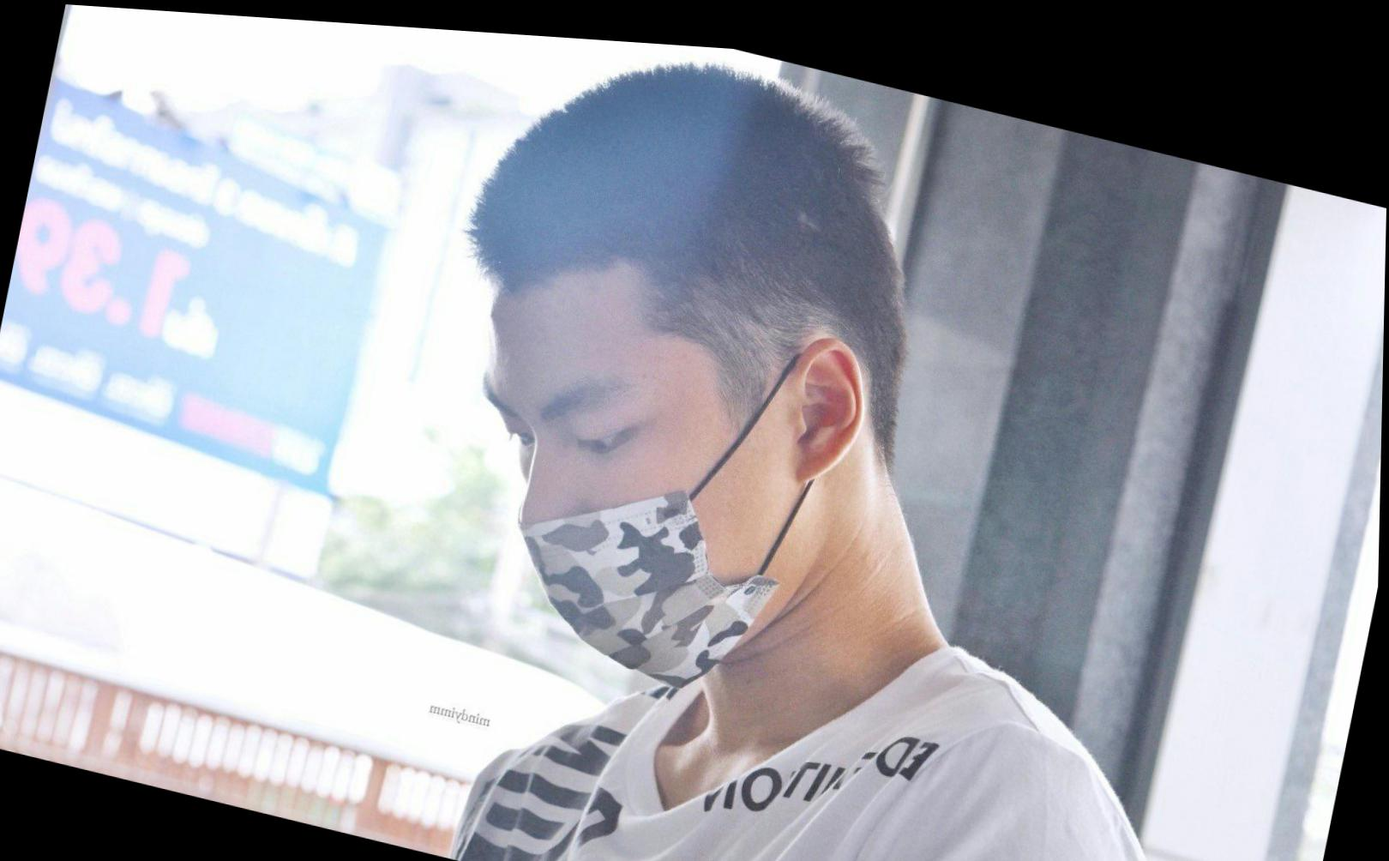WRONG: (437, 266, 817, 698)
